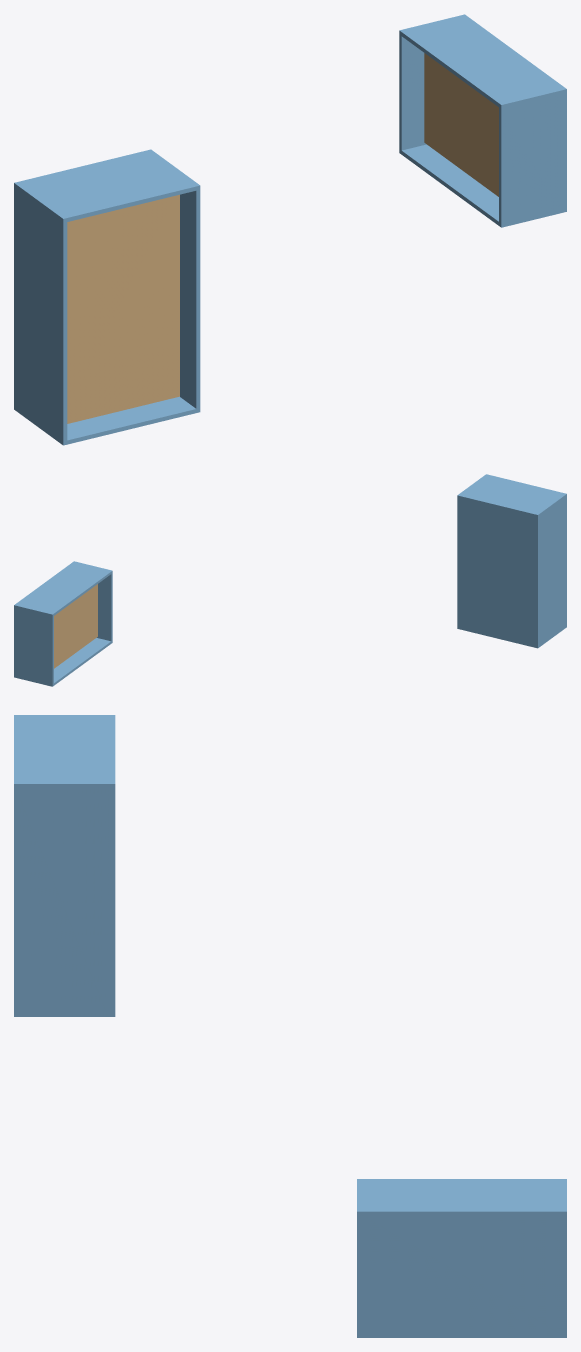
The model's file is synthetic.glb.
3 views of the same model, one above another, from view 1: azimuth 30°, elevation 25°; view 2: azimuth 150°, elevation 25°; view 3: azimuth 270°, elevation 25° (orthographic). The views are drawn at different scales.
Visible parts, largest first — view 1: equipment-tray/pair/left/payload, equipment-tray/pair/left/back, equipment-tray/pair/right/right-wall, equipment-tray/pair/right/payload, equipment-tray/pair/right/back, equipment-tray/pair/left/right-wall, equipment-tray/pair/left/front, equipment-tray/pair/right/front, equipment-tray/pair/right/left-wall, equipment-tray/pair/left/left-wall, equipment-tray/pair/left/base, equipment-tray/pair/right/base; view 2: equipment-tray/pair/left/base, equipment-tray/pair/left/back, equipment-tray/pair/right/left-wall, equipment-tray/pair/right/back, equipment-tray/pair/right/payload, equipment-tray/pair/left/right-wall, equipment-tray/pair/right/front, equipment-tray/pair/right/right-wall, equipment-tray/pair/right/base; view 3: equipment-tray/pair/right/base, equipment-tray/pair/left/front, equipment-tray/pair/right/back, equipment-tray/pair/left/right-wall, equipment-tray/pair/left/base.
Part boxes in pixels (left/top/right/bottom): equipment-tray/pair/left/payload: left=67, top=194, right=179, bottom=423; equipment-tray/pair/left/back: left=17, top=184, right=67, bottom=445; equipment-tray/pair/right/right-wall: left=499, top=95, right=560, bottom=223; equipment-tray/pair/right/payload: left=424, top=53, right=498, bottom=196; equipment-tray/pair/right/back: left=399, top=16, right=560, bottom=109; equipment-tray/pair/left/right-wall: left=22, top=153, right=196, bottom=221; equipment-tray/pair/left/front: left=151, top=152, right=200, bottom=412; equipment-tray/pair/right/front: left=399, top=144, right=560, bottom=227; equipment-tray/pair/right/left-wall: left=399, top=35, right=426, bottom=150; equipment-tray/pair/left/left-wall: left=67, top=396, right=196, bottom=444; equipment-tray/pair/left/base: left=14, top=149, right=153, bottom=411; equipment-tray/pair/right/base: left=459, top=14, right=566, bottom=212; equipment-tray/pair/left/base: left=457, top=494, right=539, bottom=648; equipment-tray/pair/left/back: left=538, top=493, right=566, bottom=646; equipment-tray/pair/right/left-wall: left=17, top=608, right=53, bottom=684; equipment-tray/pair/right/back: left=17, top=562, right=112, bottom=616; equipment-tray/pair/right/payload: left=54, top=584, right=97, bottom=668; equipment-tray/pair/left/right-wall: left=462, top=475, right=564, bottom=512; equipment-tray/pair/right/front: left=17, top=638, right=112, bottom=686; equipment-tray/pair/right/right-wall: left=97, top=573, right=112, bottom=641; equipment-tray/pair/right/base: left=14, top=561, right=76, bottom=678; equipment-tray/pair/right/base: left=357, top=1208, right=566, bottom=1337; equipment-tray/pair/left/front: left=14, top=782, right=108, bottom=1016; equipment-tray/pair/right/back: left=357, top=1179, right=566, bottom=1208; equipment-tray/pair/left/right-wall: left=14, top=717, right=108, bottom=781; equipment-tray/pair/left/base: left=108, top=715, right=115, bottom=1016.
Bounding box in the file's own units: 0.675 × 0.268 × 0.469.
